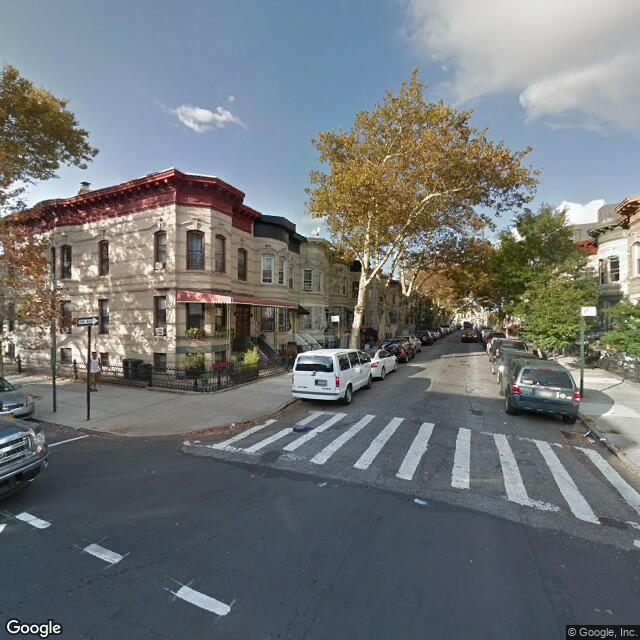litter: (412, 495, 425, 508), (599, 437, 613, 449), (581, 431, 594, 443), (183, 441, 198, 448), (314, 479, 326, 487), (229, 421, 237, 430)
